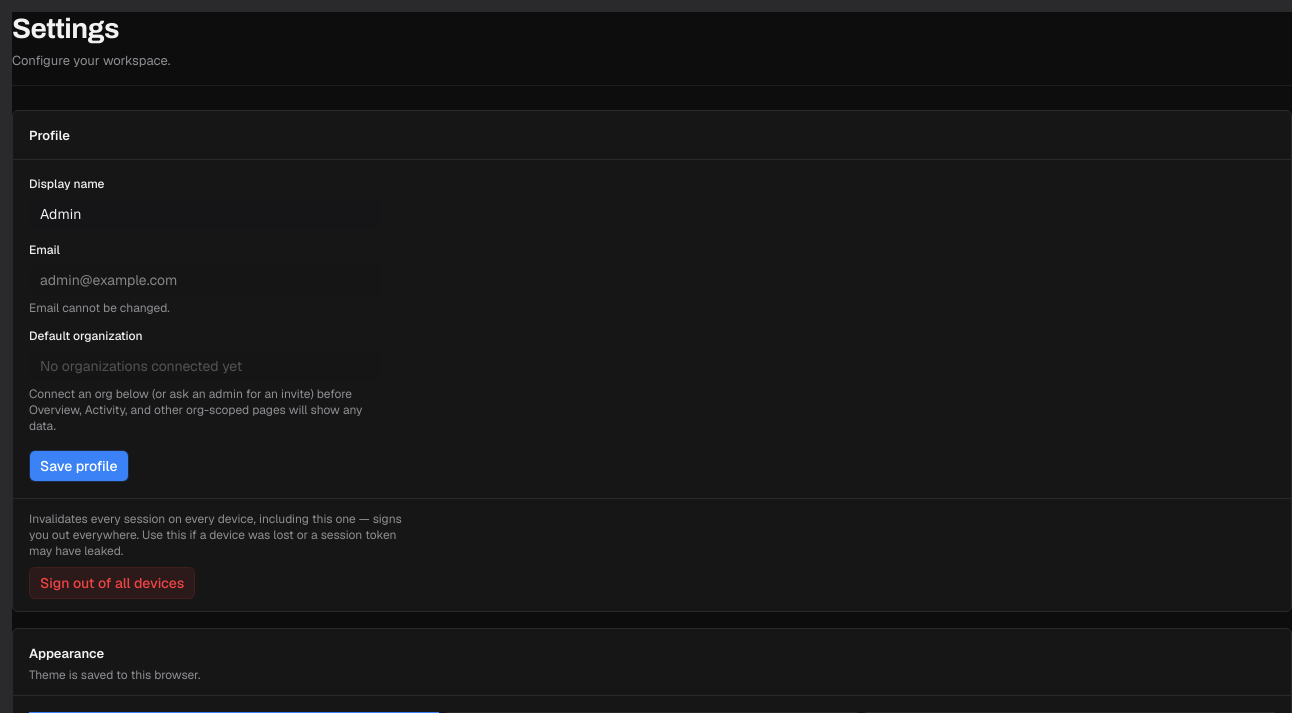
Test: SettingsPage › shows a saving spinner then a saved confirmation when the profile is updated
The width and height of the screenshot is (1292, 713).
Replace the text in the field with placeholder "Your name" below "Display name" with "New Name" at (205, 214), box [29,198,381,230]
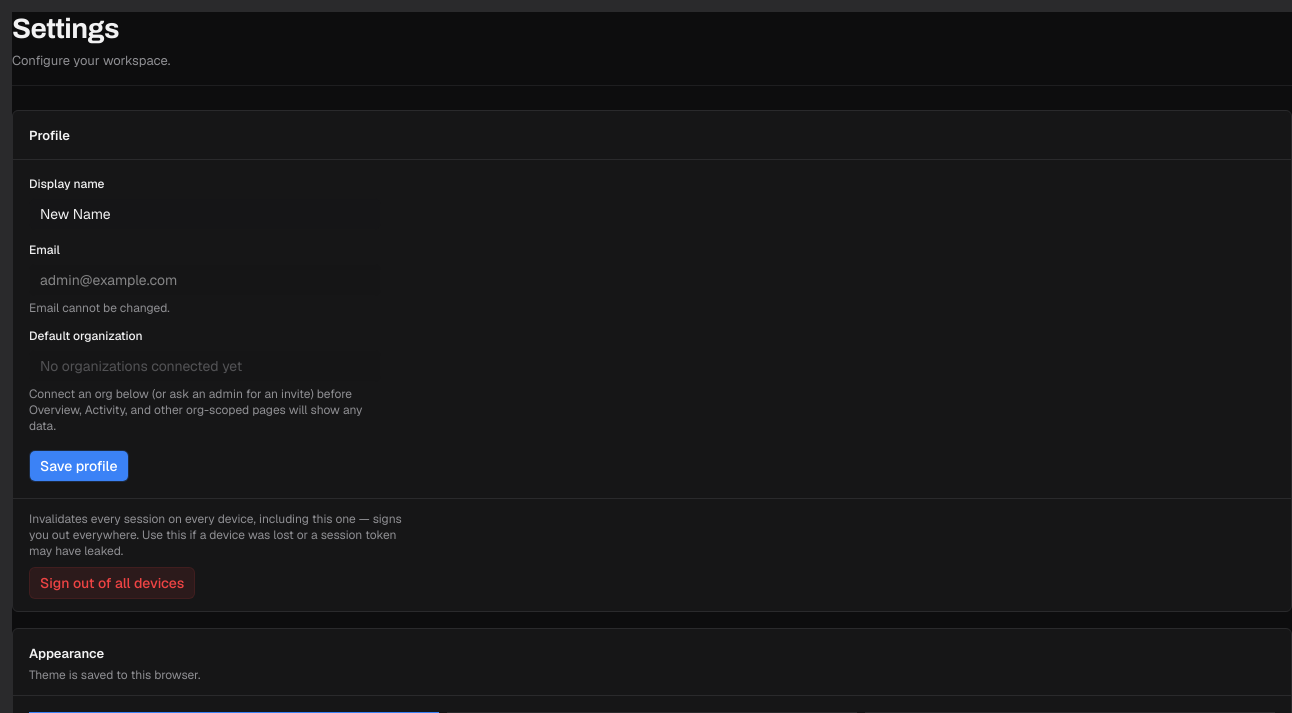
Click the button "Save profile" at (79, 466), box [29,450,128,482]
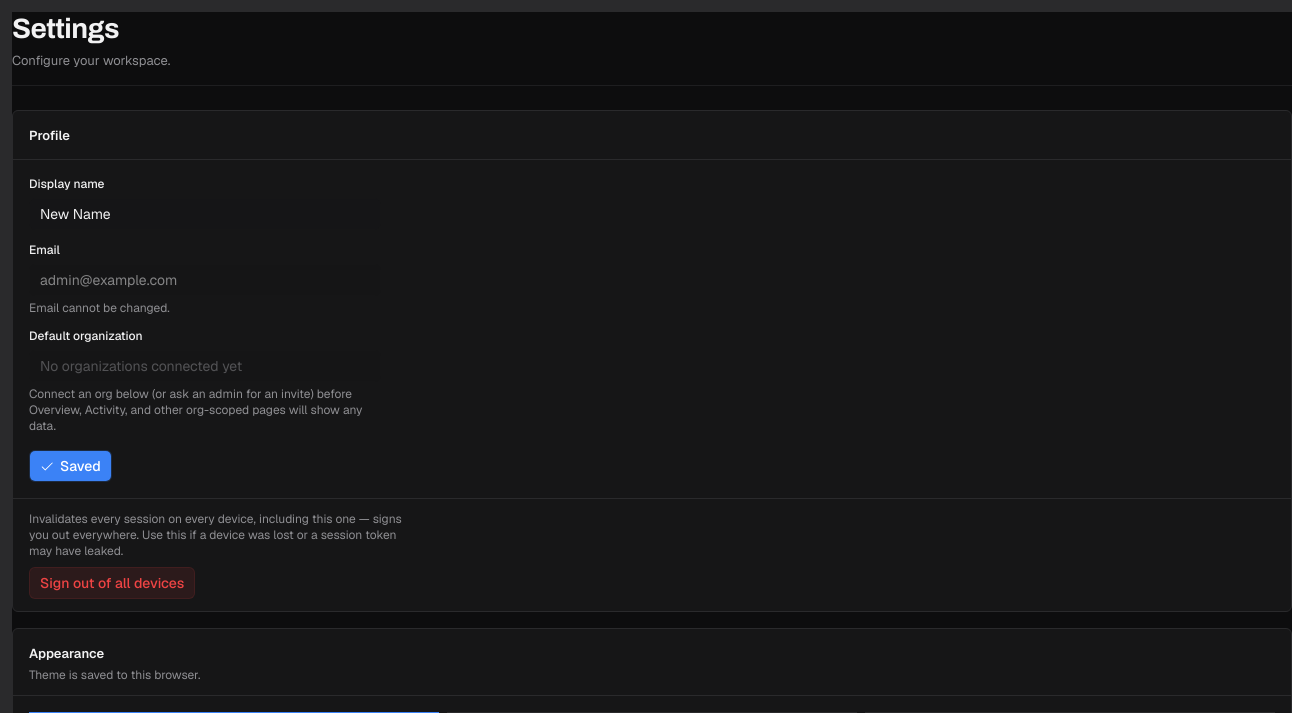
Result: the button "Saved" is shown at [29,450,112,482]
